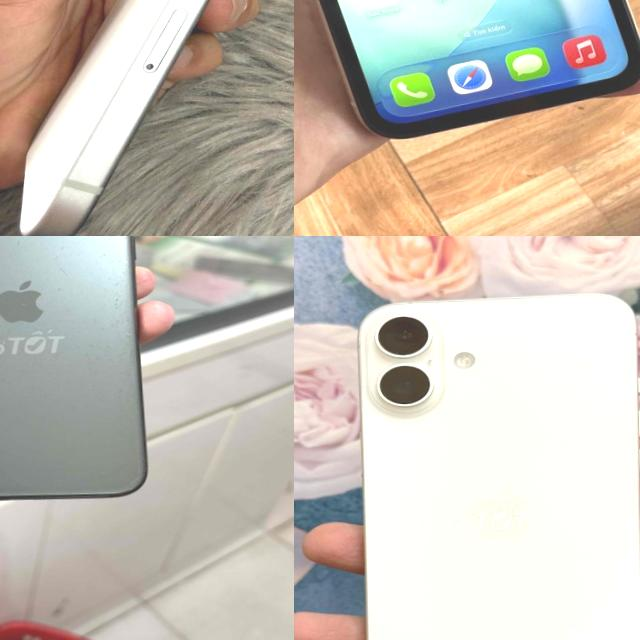gen_11: (315, 0, 640, 136), (0, 236, 151, 512)
gen_15: (0, 0, 294, 236)
gen_16: (339, 273, 640, 640)
